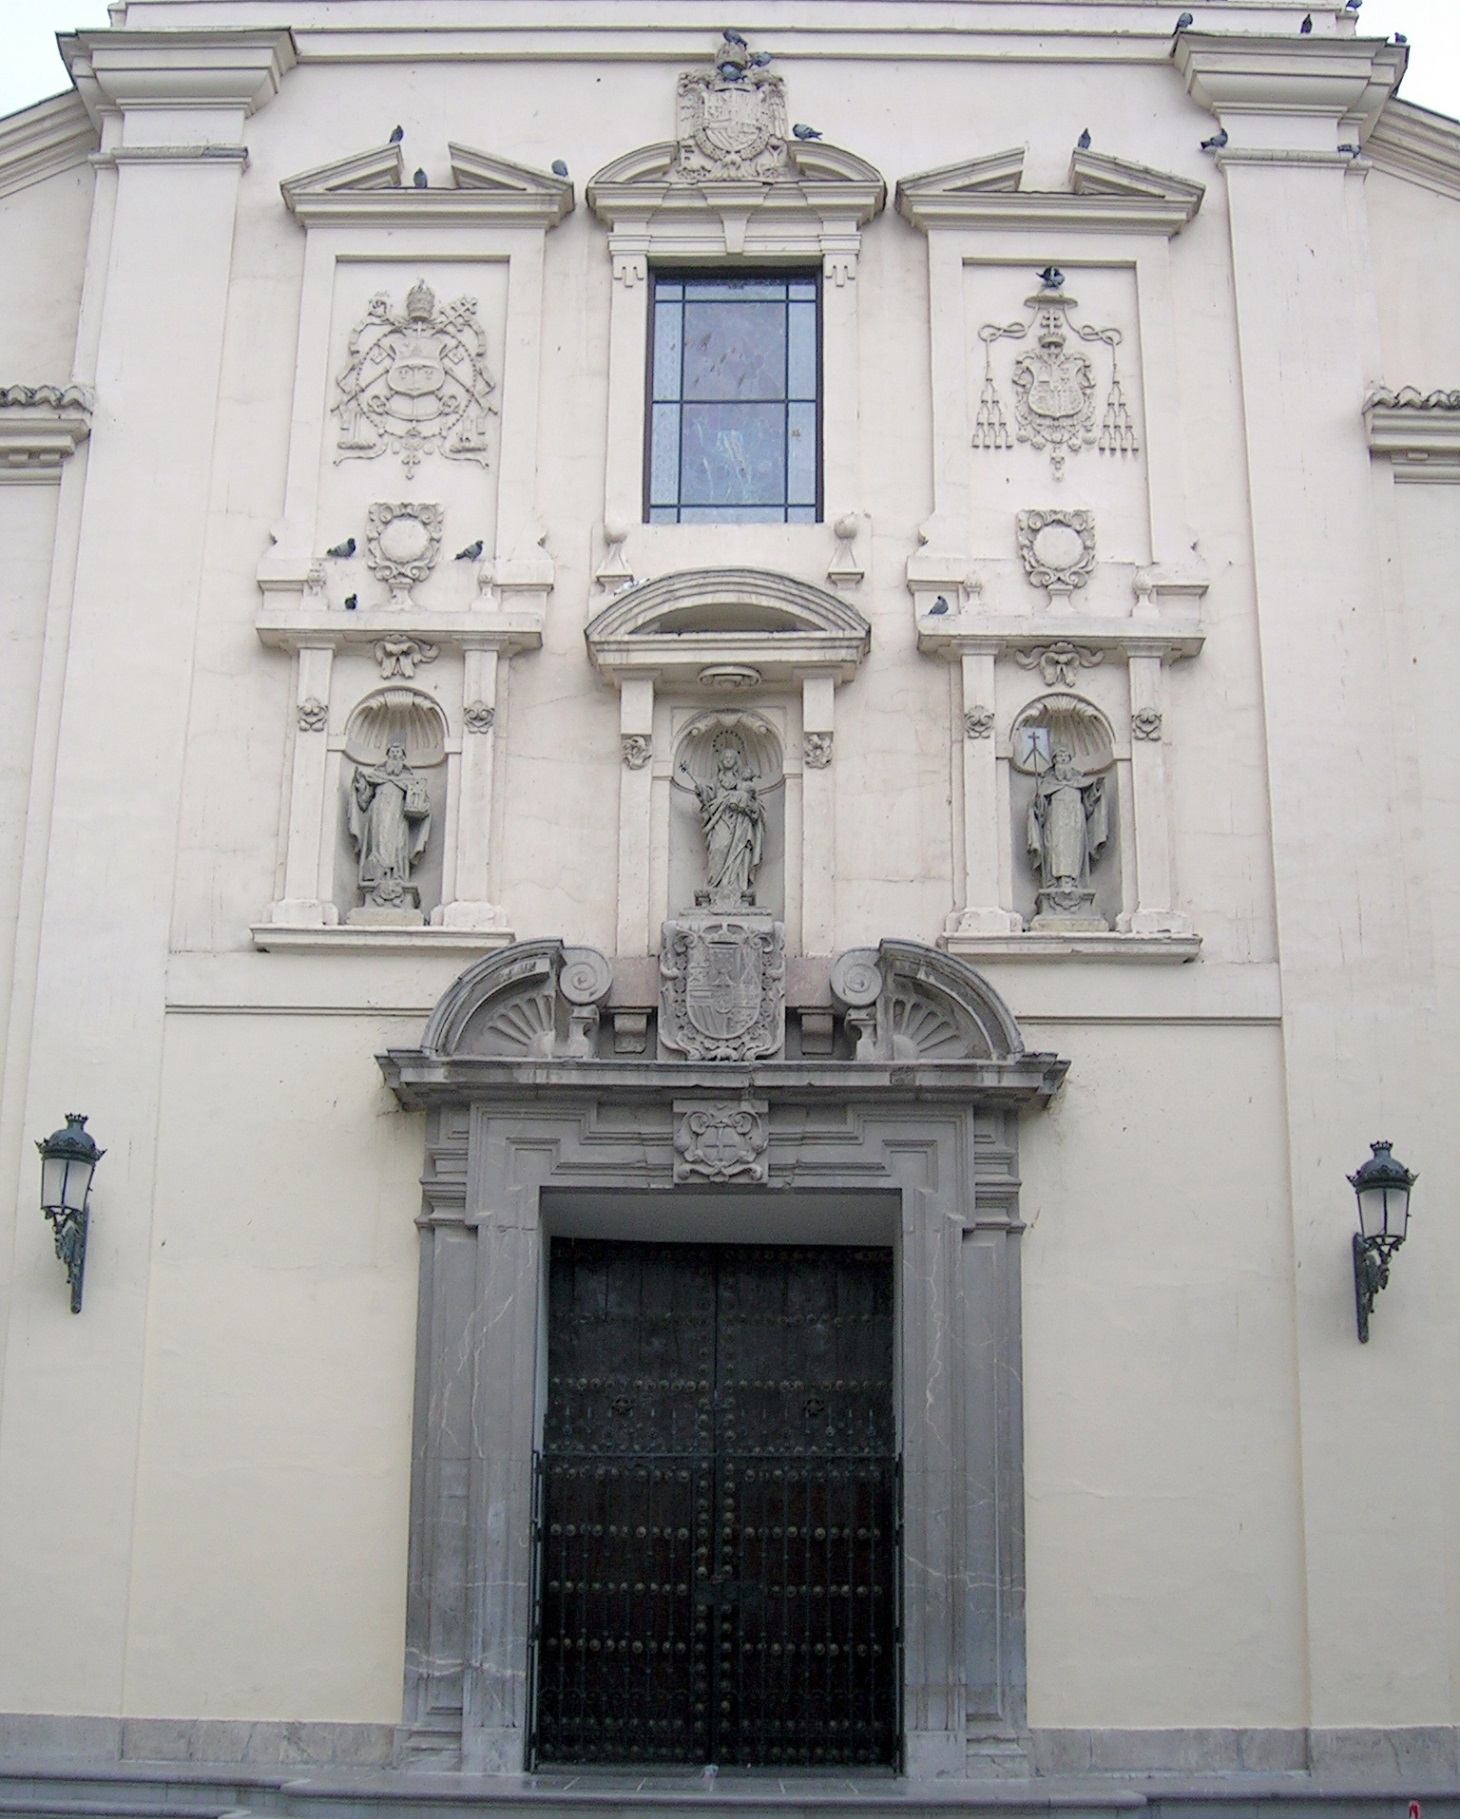fronton-curvo: (578, 559, 885, 670)
fronton-partido: (378, 927, 1044, 1107), (276, 136, 575, 235), (892, 142, 1210, 226), (580, 133, 886, 212)
vano-adintelado: (515, 1168, 925, 1788), (612, 232, 872, 536)
